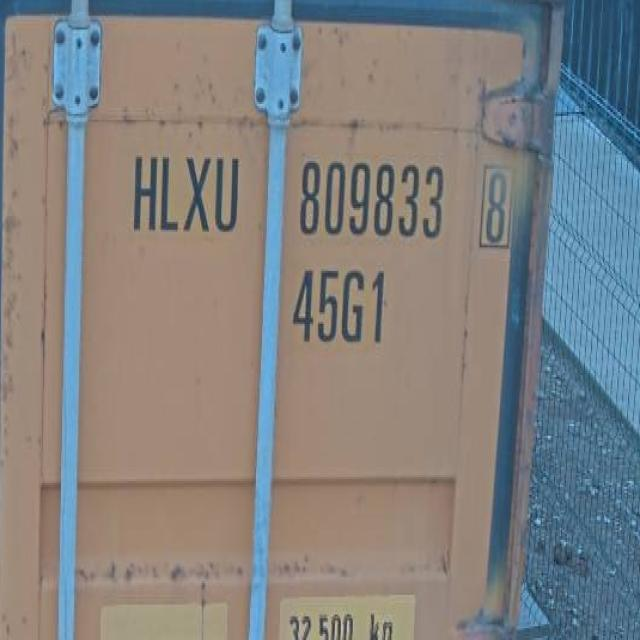dv: (477, 158, 515, 253)
owner: (126, 143, 252, 244)
serial: (295, 148, 448, 243)
size: (289, 258, 391, 353)
